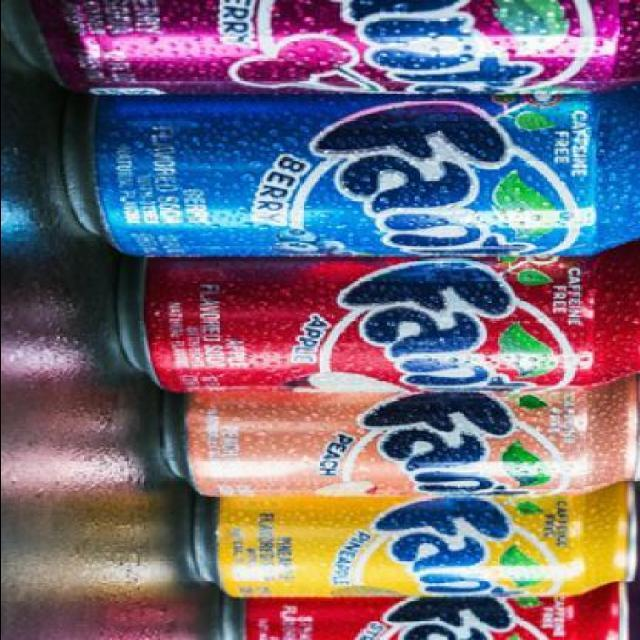Fanta: (60, 78, 638, 258), (113, 238, 638, 394), (153, 360, 638, 500), (25, 2, 638, 98), (185, 472, 638, 600)
